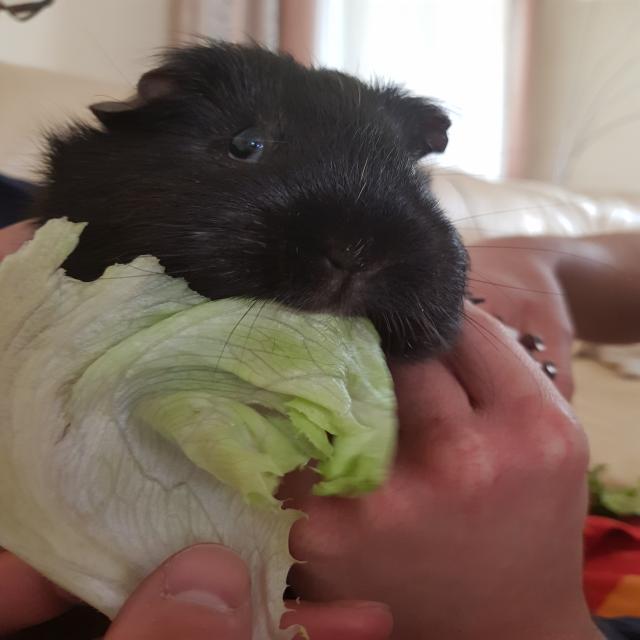guinea pig: (36, 37, 473, 369)
